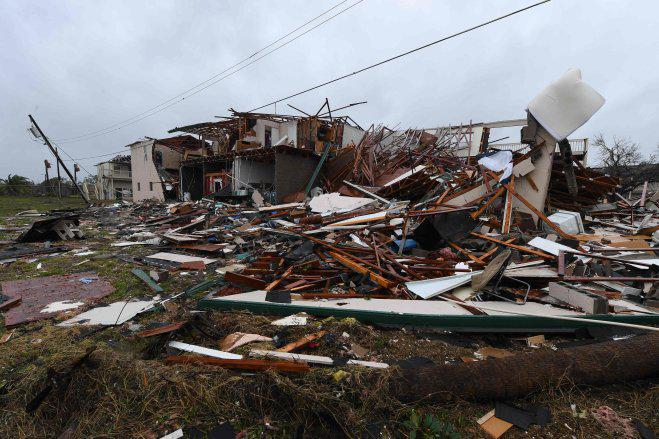destroyed: (120, 100, 562, 206)
